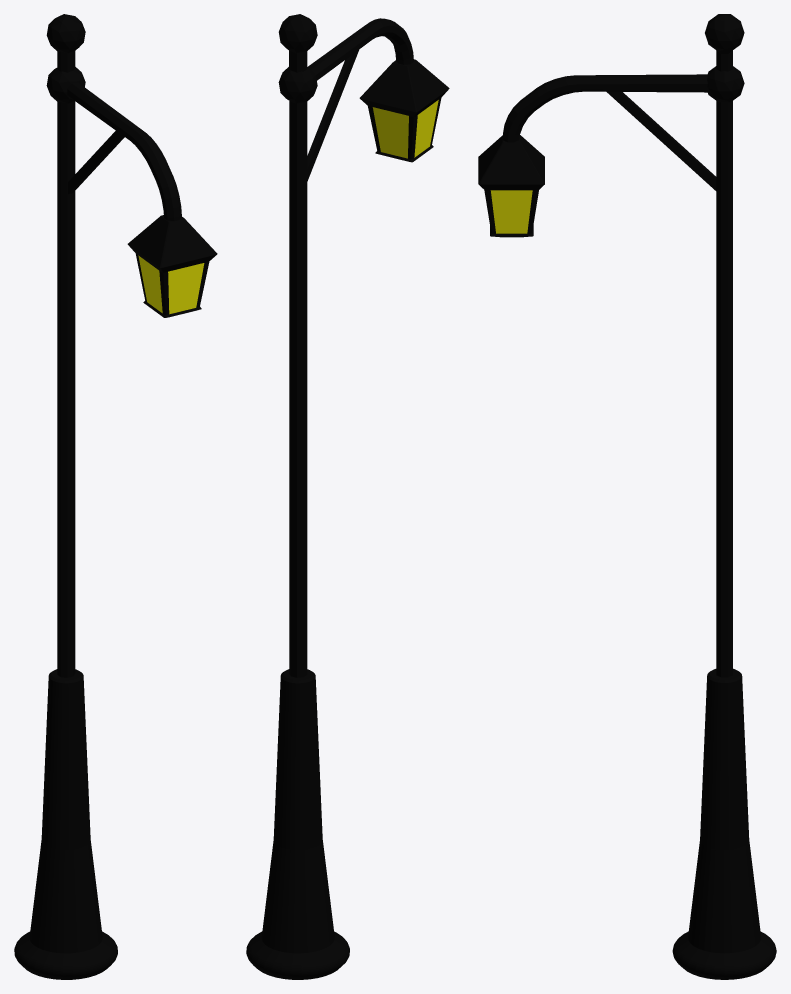
Rendered from lamPostNew.fbx.
The picture shows the model from 3 angles, left to right: view 1: azimuth 30°, elevation 25°; view 2: azimuth 150°, elevation 25°; view 3: azimuth 270°, elevation 25°; orthographic projection.
Visible parts, largest first — view 1: Icosphere.001; view 2: Icosphere.001; view 3: Icosphere.001.
Part boxes in pixels (x1,y1,x2,y2): Icosphere.001: (14, 14, 217, 979); Icosphere.001: (246, 14, 449, 979); Icosphere.001: (478, 14, 776, 979).
Size of the model in its own units: 136 by 1361 by 389.
